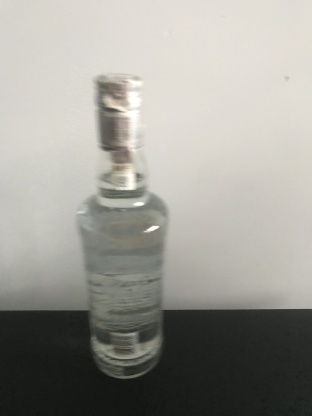nakretka: (91, 72, 146, 152)
